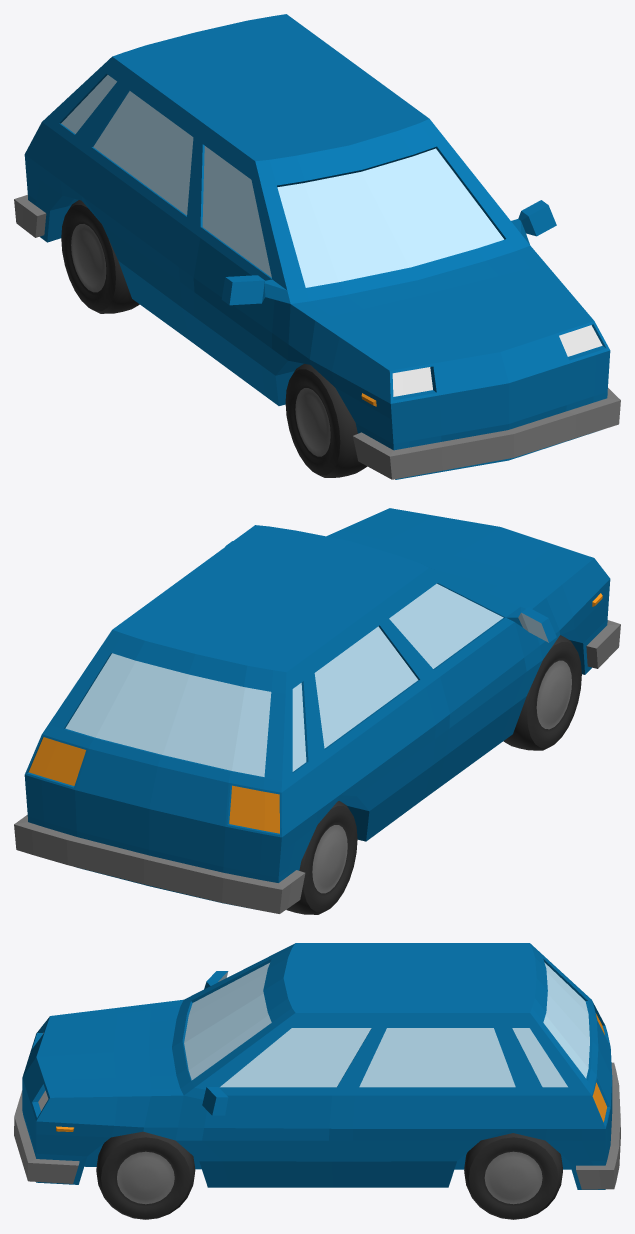
The model's file is car.glb.
3 views of the same model, one above another, from view 1: azimuth 30°, elevation 25°; view 2: azimuth 150°, elevation 25°; view 3: azimuth 270°, elevation 25° (orthographic). The views are drawn at different scales.
Parts seen in each view (by area): view 1: 1377 Car, 1377 Car.001, 1377 Car.002; view 2: 1377 Car, 1377 Car.001, 1377 Car.002; view 3: 1377 Car, 1377 Car.004, 1377 Car.003.
Part boxes in pixels (x1,y1,x2,y2): 1377 Car: (14,14,620,479); 1377 Car.001: (285,364,367,477); 1377 Car.002: (61,200,139,313); 1377 Car: (14,508,620,913); 1377 Car.001: (503,635,581,750); 1377 Car.002: (286,801,357,914); 1377 Car: (14,943,620,1189); 1377 Car.004: (96,1131,195,1219); 1377 Car.003: (464,1133,562,1219).
Bounding box in the file's own units: 45.5 × 31.97 × 89.11.
1 material, 1 textured.
